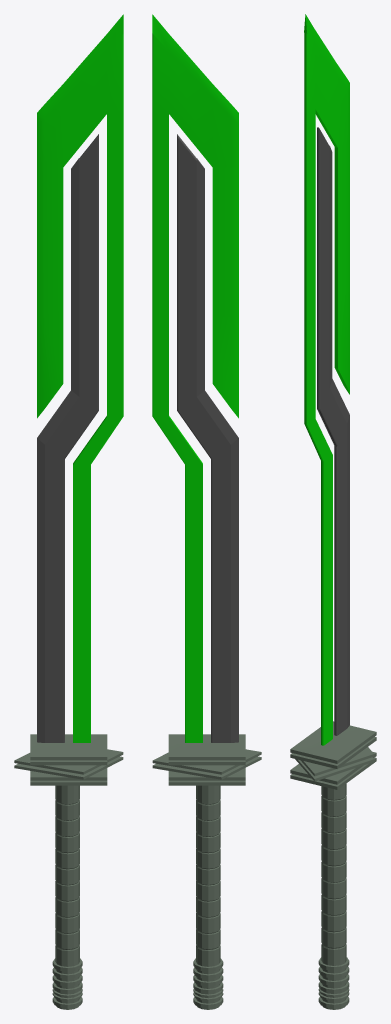
The model's file is DSword4.fbx.
The picture shows the model from 3 angles, left to right: view 1: azimuth 30°, elevation 25°; view 2: azimuth 210°, elevation 25°; view 3: azimuth 270°, elevation 25°; orthographic projection. The views are drawn at different scales.
Parts seen in each view (by area): view 1: polySurface18, polySurface19, Grip8, Hilt10; view 2: polySurface18, polySurface19, Grip8, Hilt10; view 3: polySurface18, polySurface19, Grip8, Hilt10.
Part boxes in pixels (bbox=[...]): polySurface18: bbox=[37, 14, 123, 742]; polySurface19: bbox=[37, 134, 98, 742]; Grip8: bbox=[52, 785, 82, 1009]; Hilt10: bbox=[14, 734, 123, 785]; polySurface18: bbox=[152, 14, 238, 742]; polySurface19: bbox=[177, 134, 238, 742]; Grip8: bbox=[193, 785, 223, 1009]; Hilt10: bbox=[152, 734, 261, 785]; polySurface18: bbox=[304, 14, 349, 745]; polySurface19: bbox=[317, 127, 349, 735]; Grip8: bbox=[318, 783, 349, 1009]; Hilt10: bbox=[290, 721, 376, 789].
Size of the model in its own units: 0.7801 by 8.18 by 0.6316.
